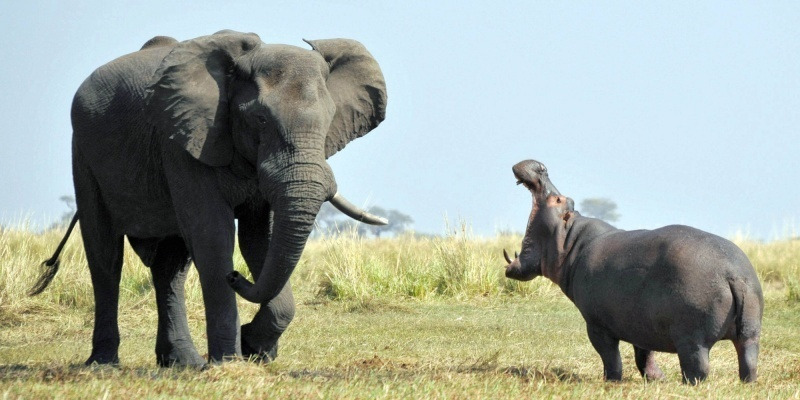hipopotamo: (494, 150, 770, 383)
